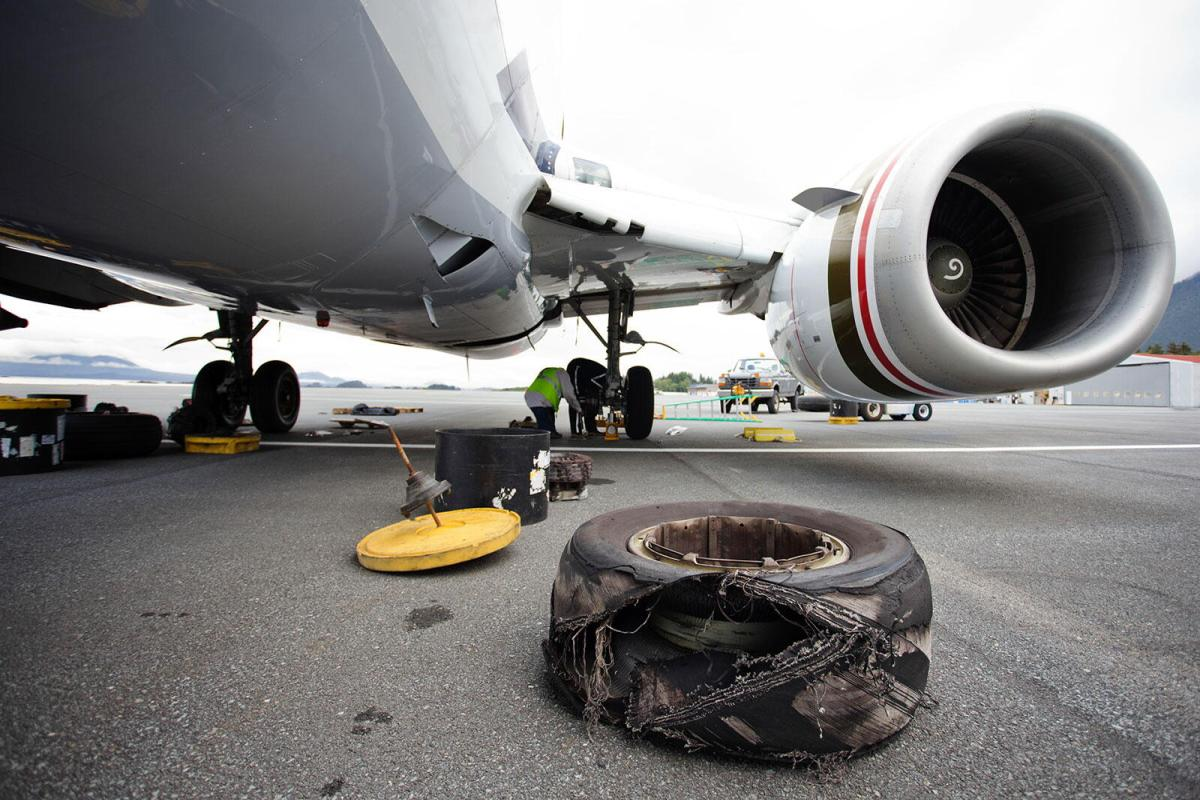Fuselage_damage: (545, 488, 948, 775)
